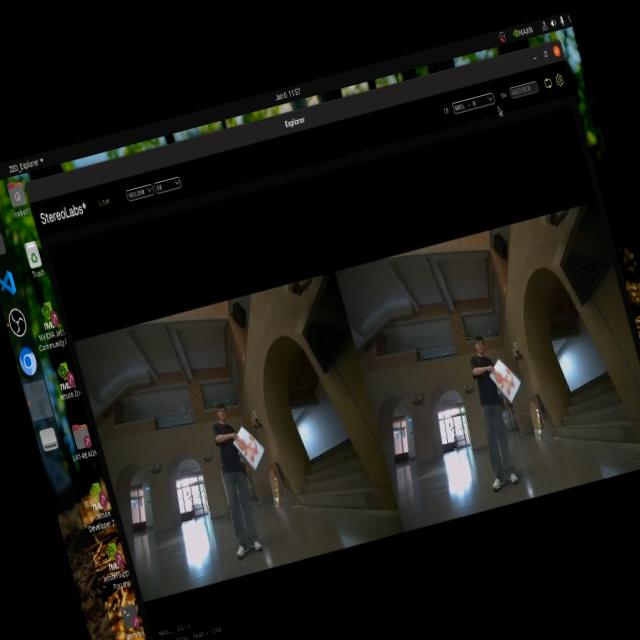red: (230, 424, 274, 473), (489, 362, 522, 402)
